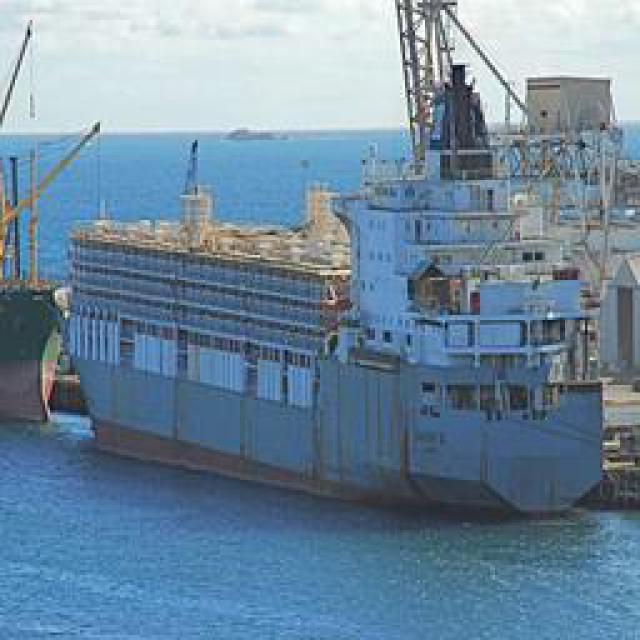Ship: (62, 1, 614, 528)
